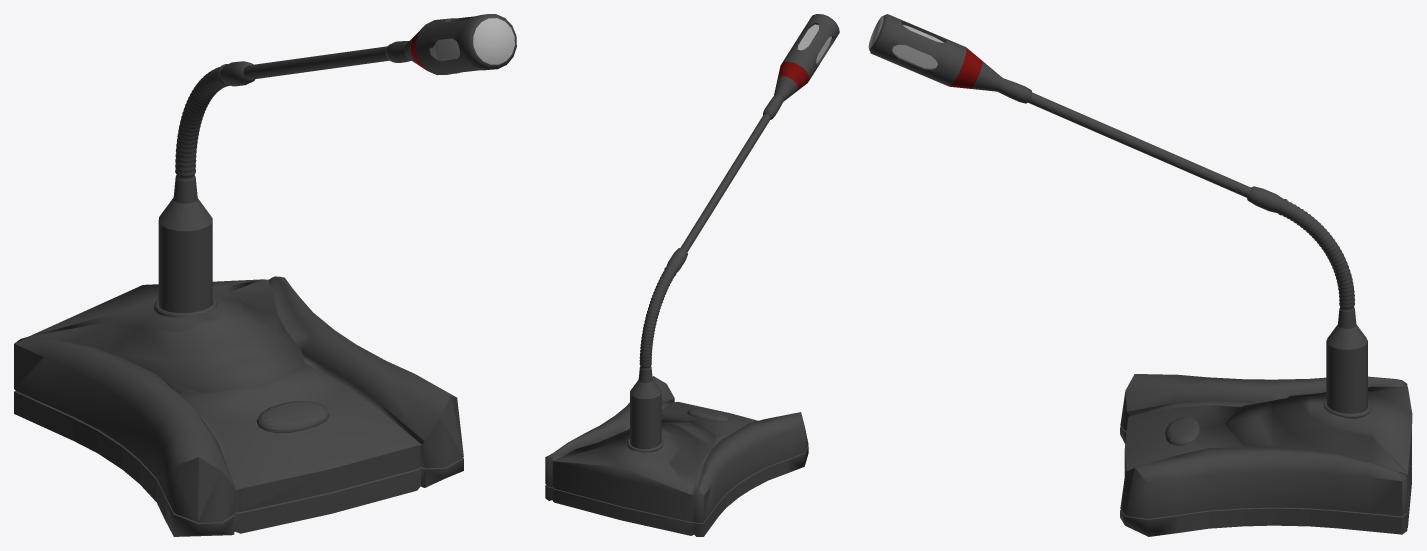
File: Microphone.FBX
The picture shows the model from 3 angles, left to right: view 1: azimuth 30°, elevation 25°; view 2: azimuth 150°, elevation 25°; view 3: azimuth 270°, elevation 25°; orthographic projection. The views are drawn at different scales.
Parts seen in each view (by area): view 1: Microphone; view 2: Microphone; view 3: Microphone.
Part boxes in pixels (<box>): Microphone: <box>14,14,516,536</box>; Microphone: <box>545,14,839,536</box>; Microphone: <box>868,14,1412,536</box>.
Size of the model in its own units: 15.58 by 32.21 by 33.93.
